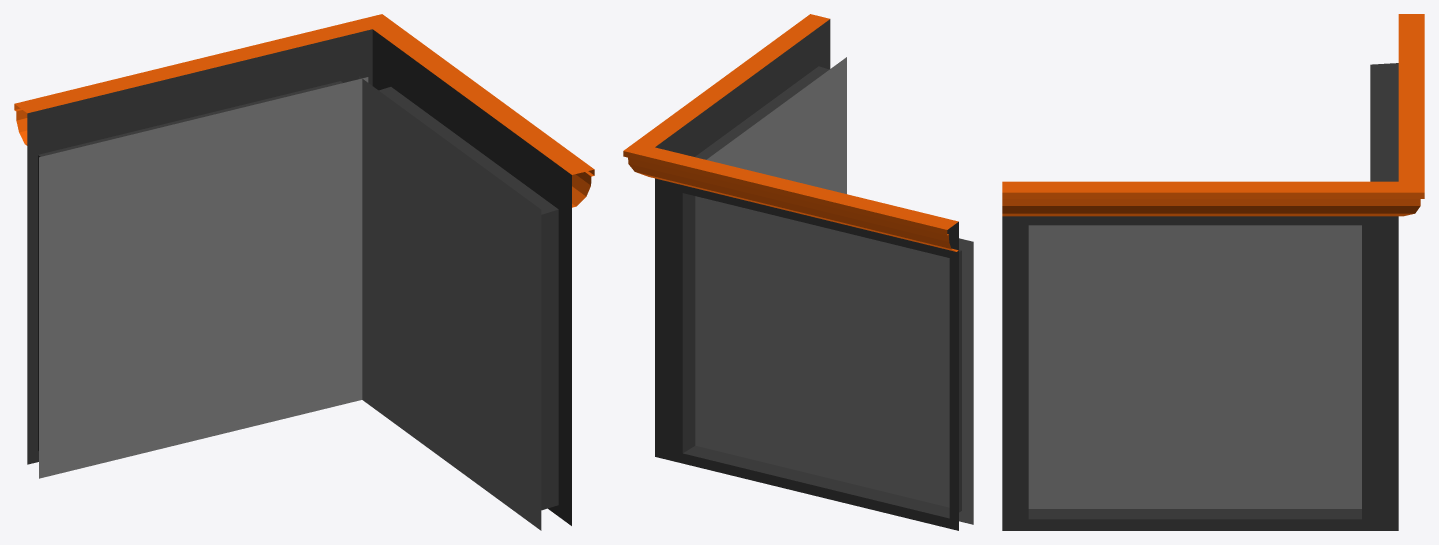
File: SM_B_Corner_Build_01.fbx
3 renders of one model, left to right at view 1: azimuth 30°, elevation 25°; view 2: azimuth 150°, elevation 25°; view 3: azimuth 270°, elevation 25°, orthographic. The views are drawn at different scales.
Visible parts, largest first — view 1: SM_B_Corner_Build_01, Box063, Box064; view 2: SM_B_Corner_Build_01, Box063, Box064; view 3: SM_B_Corner_Build_01, Box063, Box064.
Part boxes in pixels (bbox=[...]): SM_B_Corner_Build_01: bbox=[39, 76, 541, 530]; Box063: bbox=[27, 29, 571, 525]; Box064: bbox=[14, 14, 594, 207]; SM_B_Corner_Build_01: bbox=[695, 57, 973, 524]; Box063: bbox=[655, 19, 961, 530]; Box064: bbox=[623, 14, 958, 251]; SM_B_Corner_Build_01: bbox=[1028, 225, 1361, 508]; Box063: bbox=[1002, 63, 1398, 530]; Box064: bbox=[1002, 14, 1424, 216].
Size of the model in its own units: 575 by 525 by 571.
